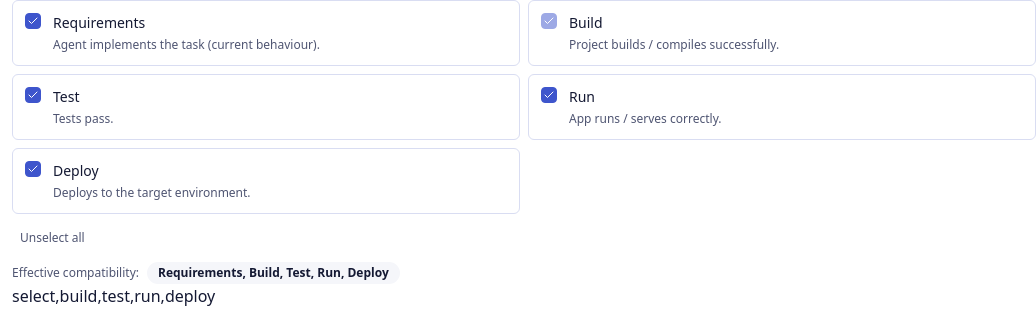
it: GateCompatibilityPicker › shows 'Unselect all' only when there are locked gates, reducing to the locked set
Step 1. Click the button "Unselect all" → (52, 238), box [12, 226, 93, 250]
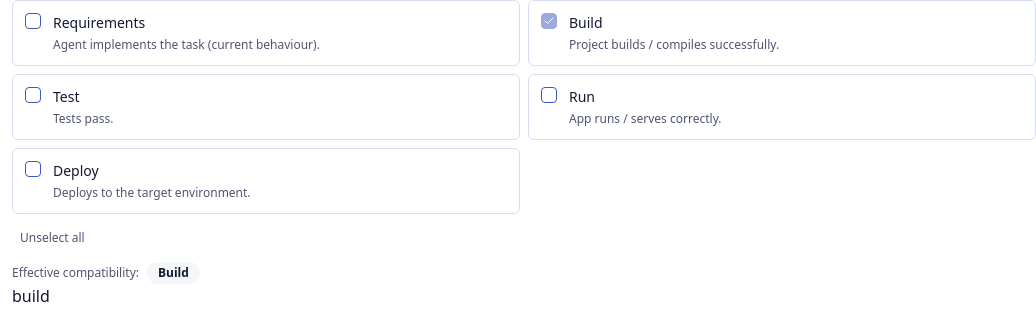
Expected: the text with test id "value" reads "build", [12, 285, 50, 307]
